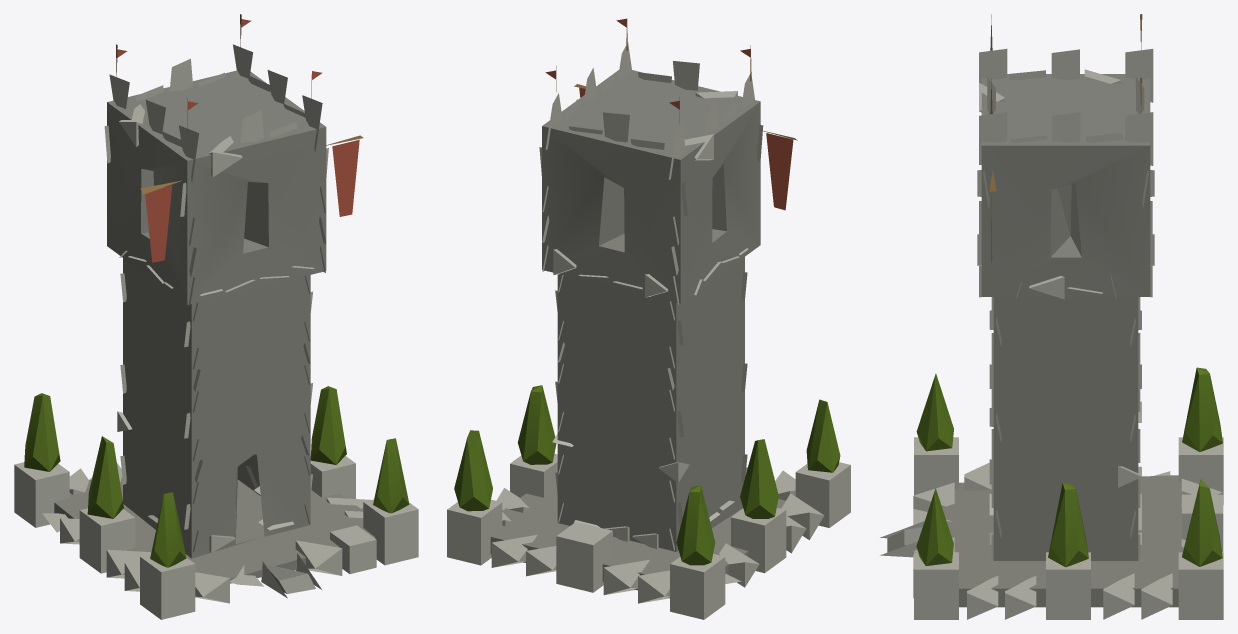
Rendered from WatchTower_SecondAge_Level3 LOD2.fbx.
3 renders of one model, left to right at view 1: azimuth 30°, elevation 25°; view 2: azimuth 150°, elevation 25°; view 3: azimuth 270°, elevation 25°, orthographic. The views are drawn at different scales.
Visible parts, largest first — view 1: WatchTower_SecondAge_Level3; view 2: WatchTower_SecondAge_Level3; view 3: WatchTower_SecondAge_Level3.
Boxes of the visible parts, x1,y1,x2,y2 form: WatchTower_SecondAge_Level3: [14, 14, 418, 619]; WatchTower_SecondAge_Level3: [447, 18, 850, 619]; WatchTower_SecondAge_Level3: [880, 14, 1223, 619].
Size of the model in its own units: 81.45 by 145 by 89.41.
